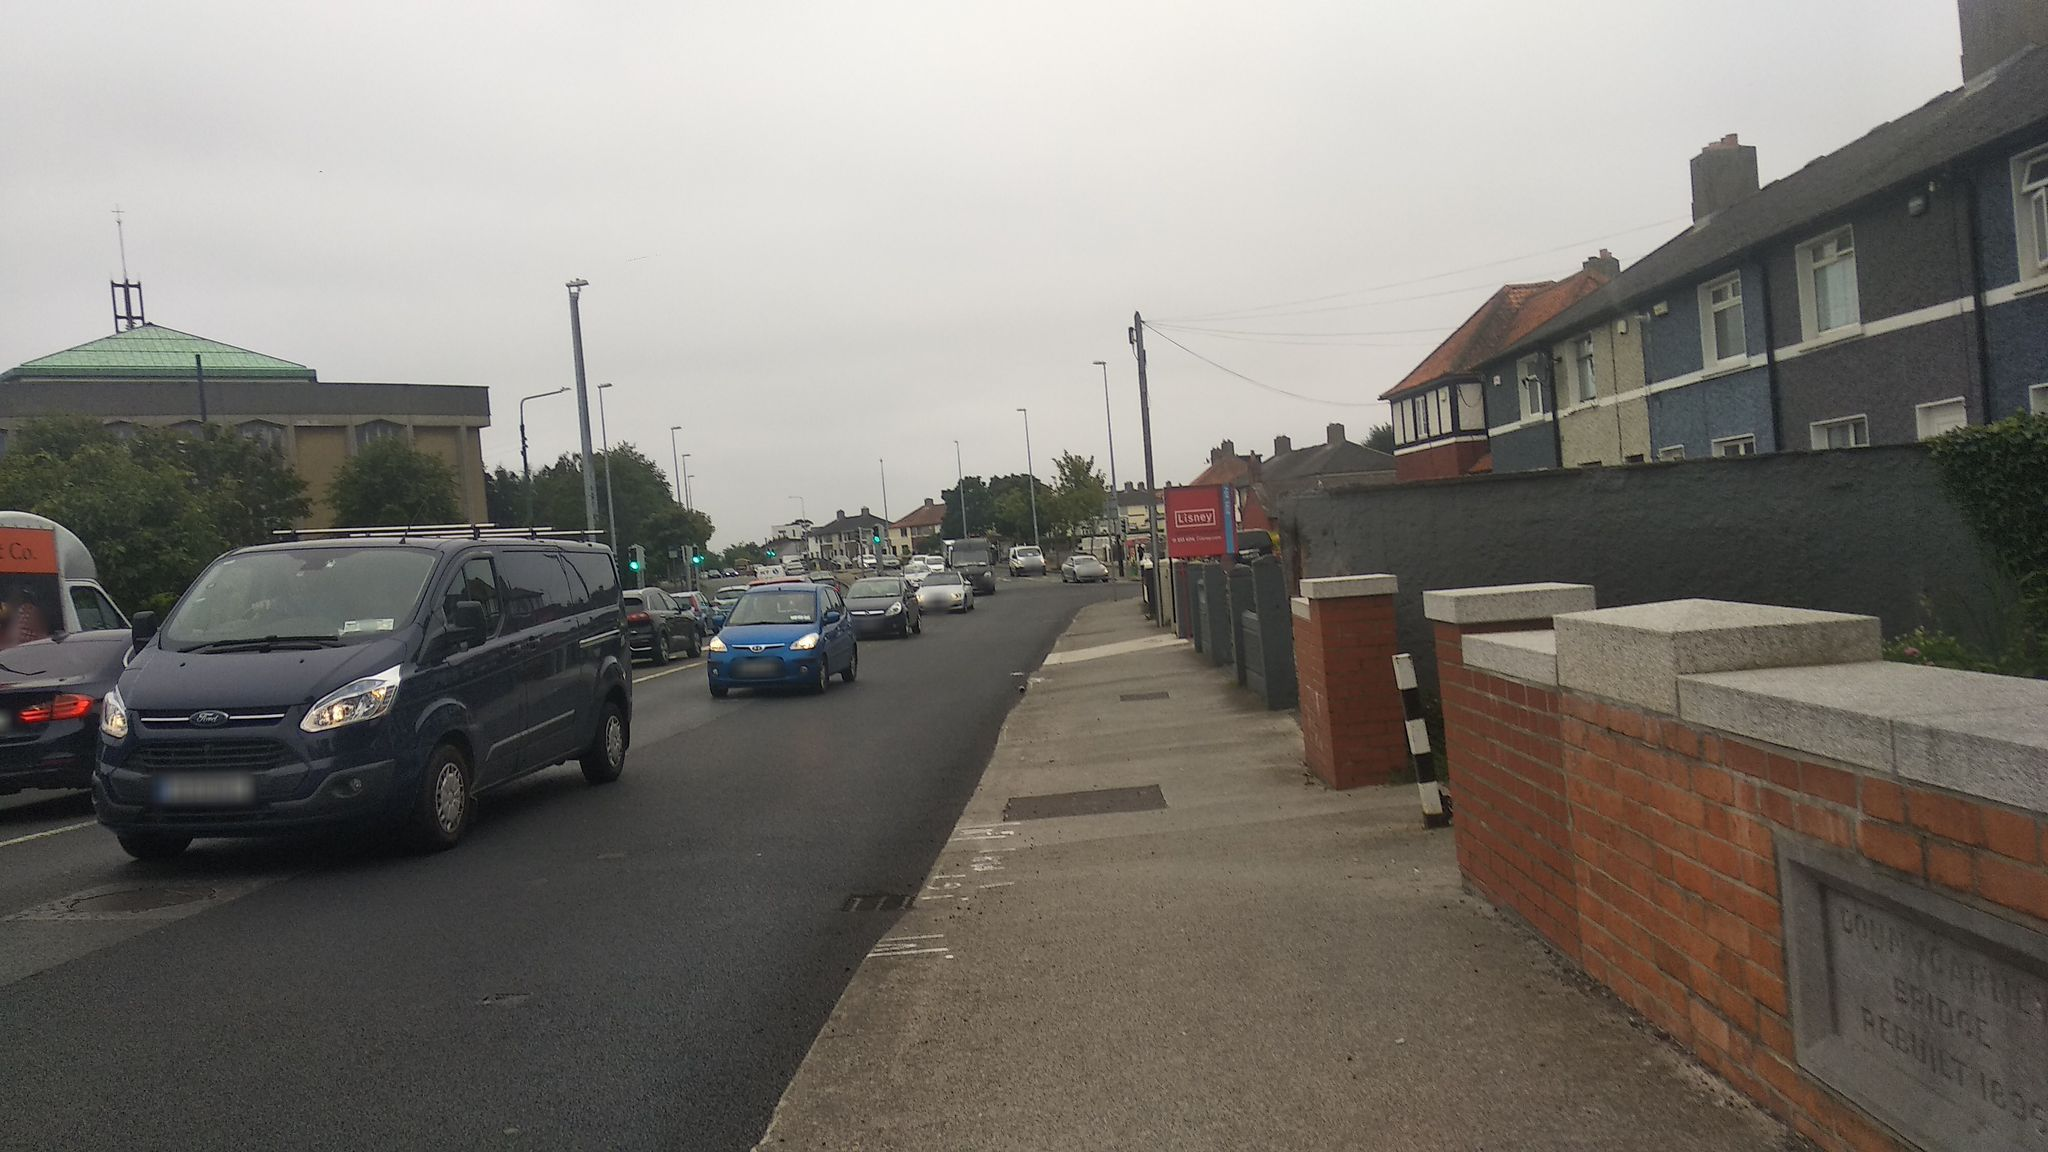property sign: (1149, 463, 1243, 563)
